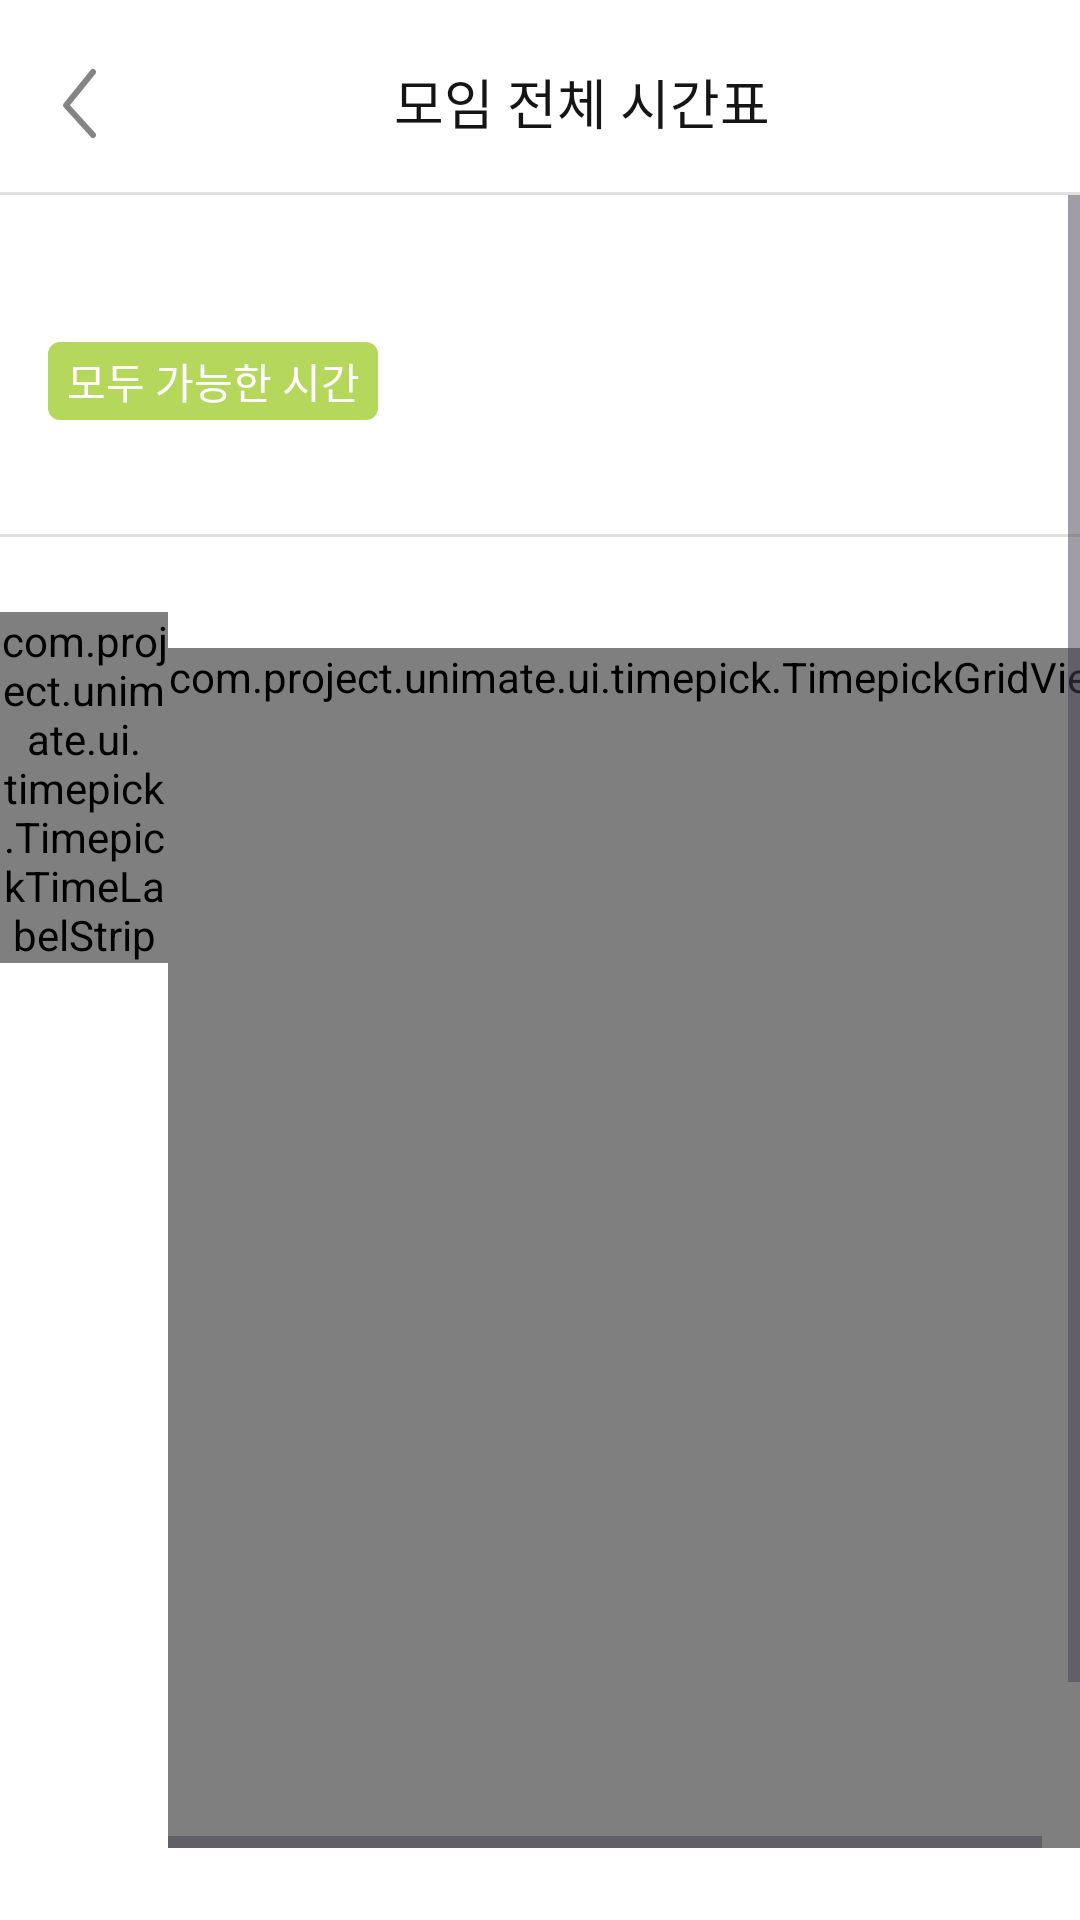

Named icons in this screenshot (1080px x 1920px) and their centers, [x,y]:
뒤로가기: [79,103]
